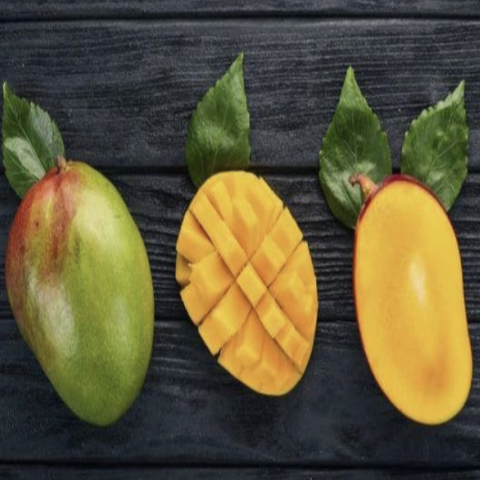mango: (0, 146, 162, 438), (168, 169, 321, 435), (338, 159, 480, 431)
